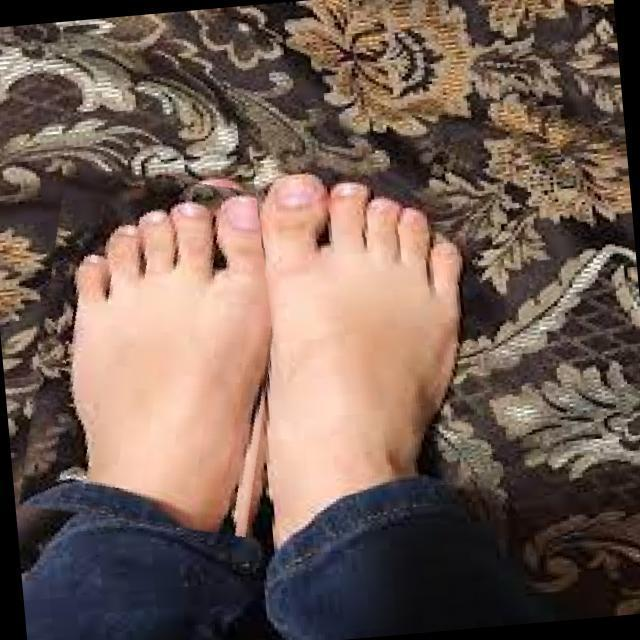No_Shoes: (252, 160, 495, 524), (82, 172, 267, 533)
